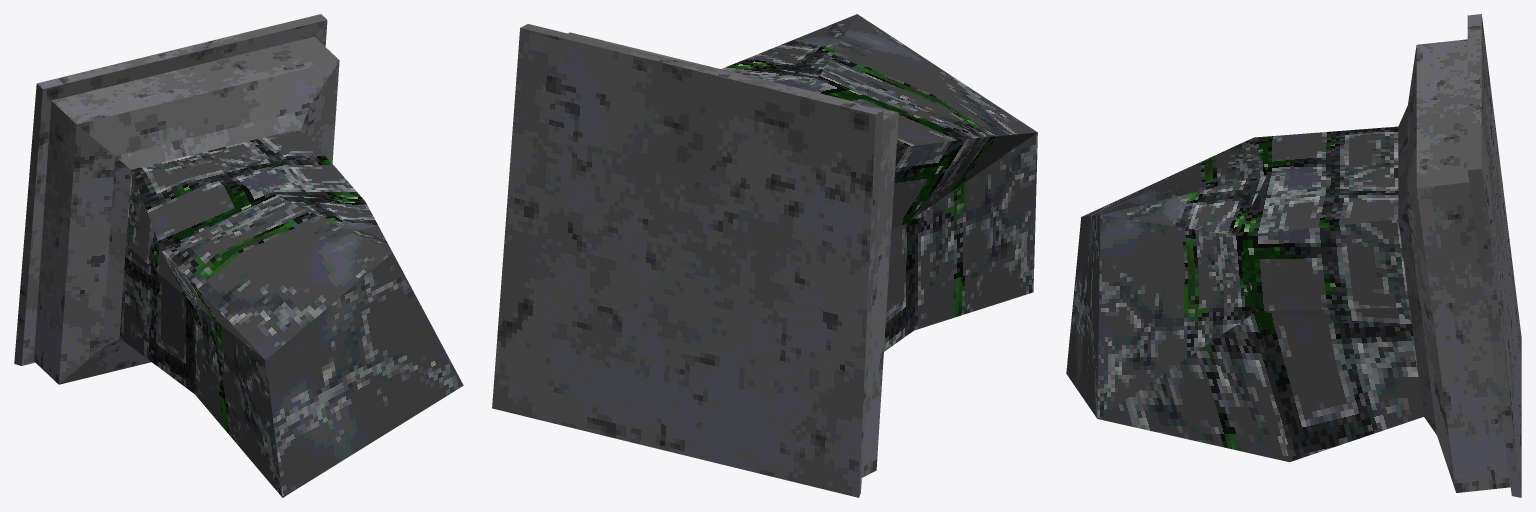
Rendered from pillar_broken_02.gltf.
The picture shows the model from 3 angles, left to right: view 1: azimuth 30°, elevation 25°; view 2: azimuth 150°, elevation 25°; view 3: azimuth 270°, elevation 25°; orthographic projection. The views are drawn at different scales.
Parts seen in each view (by area): view 1: pillar_broken_02; view 2: pillar_broken_02; view 3: pillar_broken_02.
Part boxes in pixels (<box>): pillar_broken_02: <box>14,14,463,497</box>; pillar_broken_02: <box>492,14,1037,497</box>; pillar_broken_02: <box>1066,14,1521,497</box>.
Size of the model in its own units: 1.34 by 1.29 by 1.61.
Materials: 1 (1 with a texture image).
